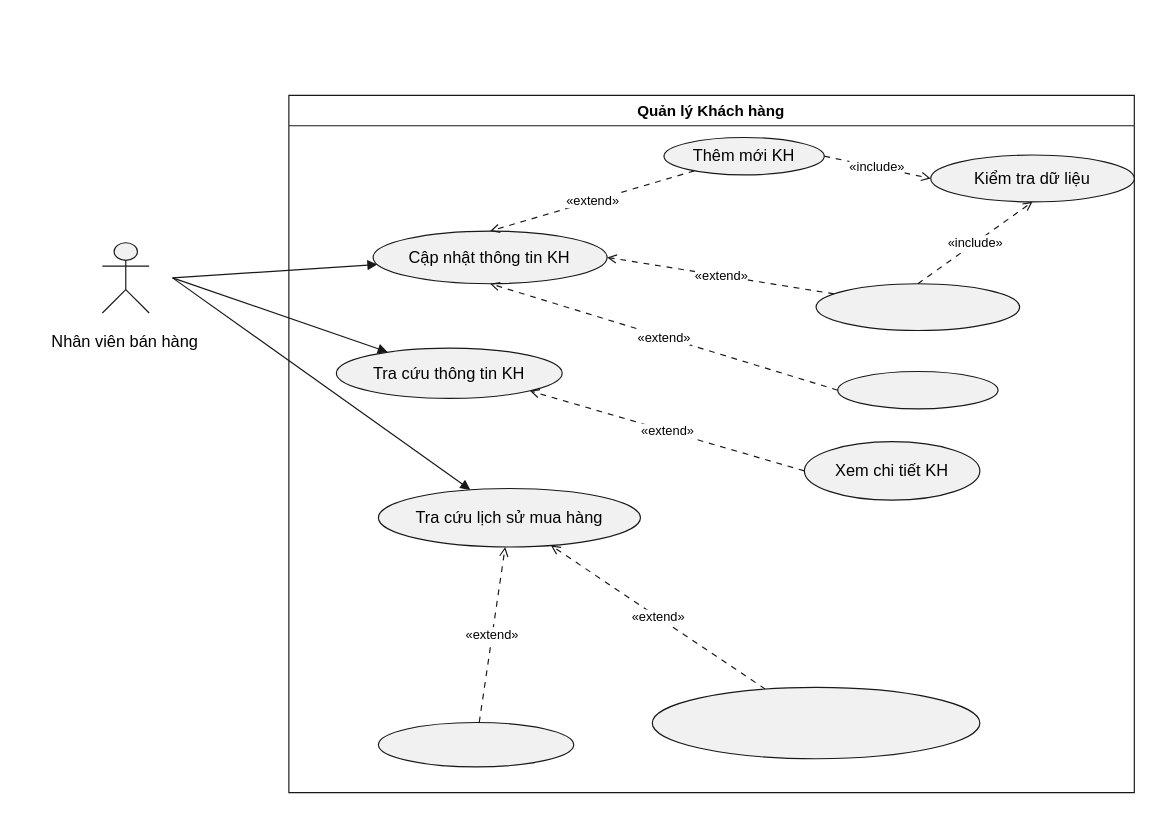
Some shapes in this 1155 by 813 pixel diagram are drawn without their labels. Each missing label, with the centre of its shape:
Chỉnh sửa KH: [917,307]
Theo dõi tổng chi tiêu & Tần suất mua: [815,722]
Xem yêu cầu đổi trả: [475,744]
Xóa KH: [917,389]
